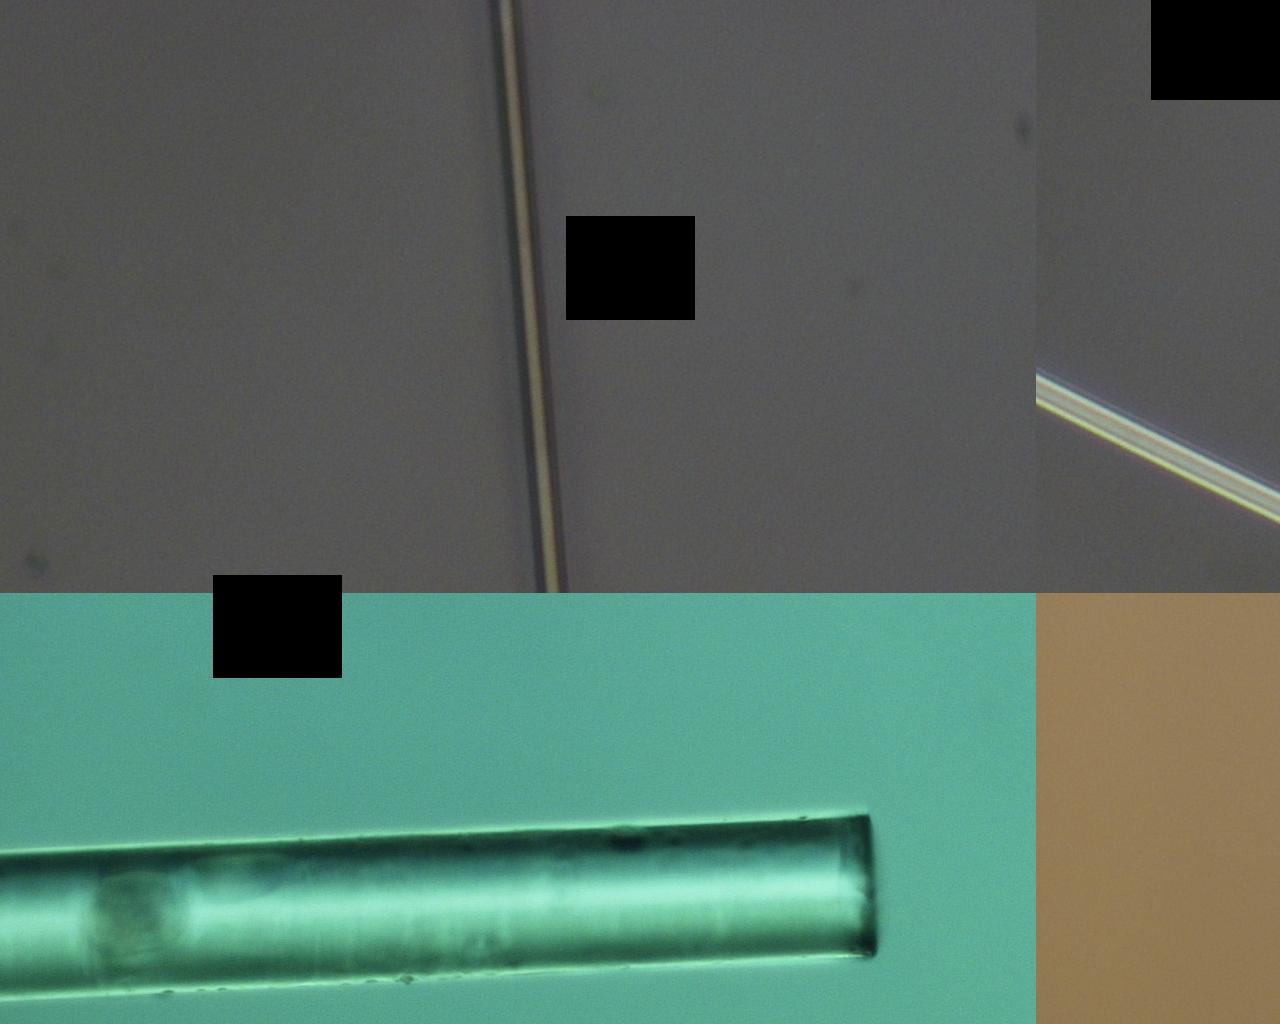fiber: (676, 0, 753, 1024)
